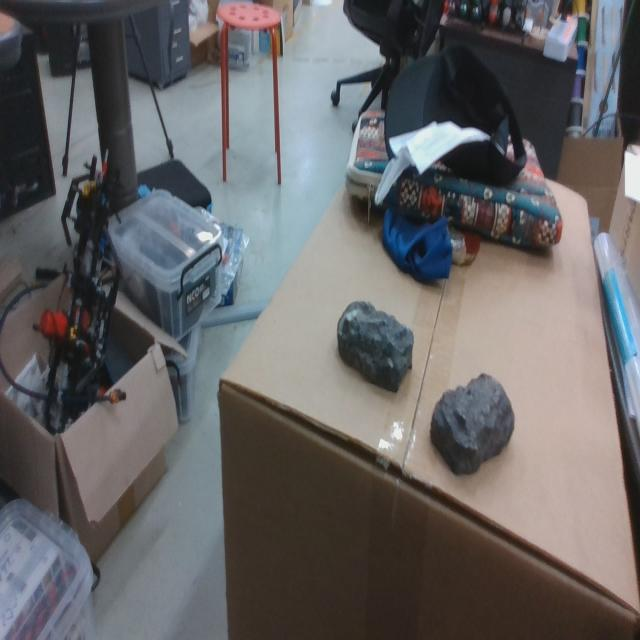stone: (430, 373, 514, 478), (336, 300, 414, 396)
